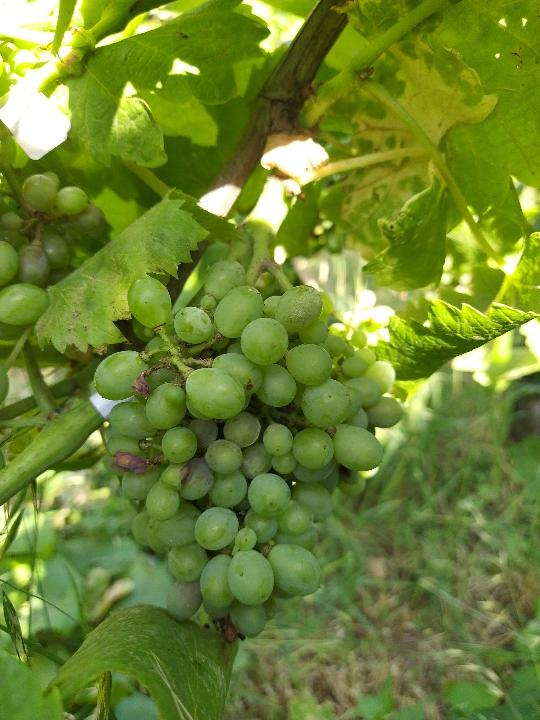grape: (94, 254, 410, 644)
